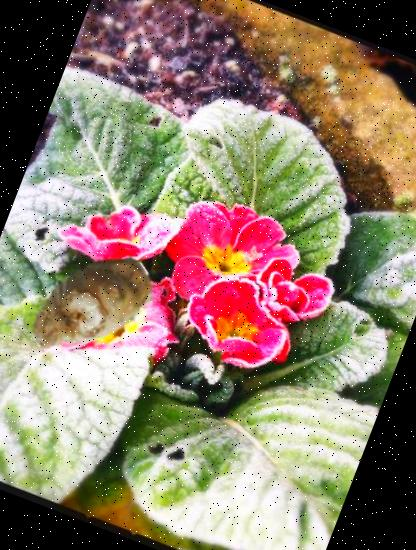Ginger: (5, 220, 176, 392)
